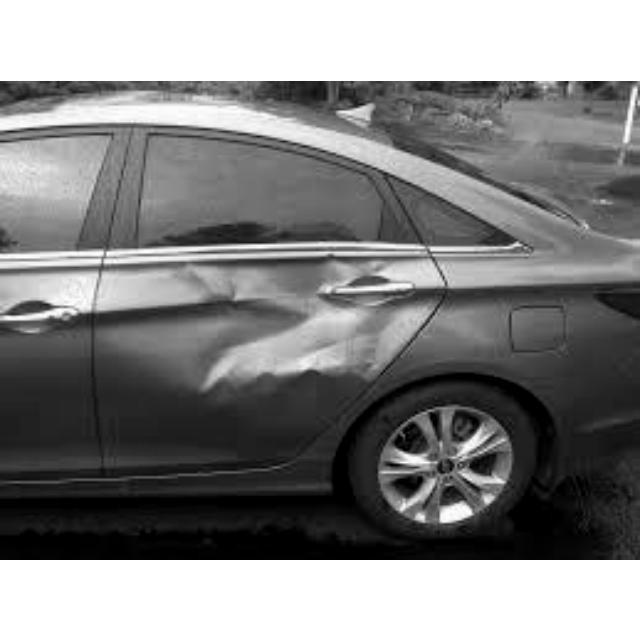doorouter-dent: (117, 244, 393, 458)
